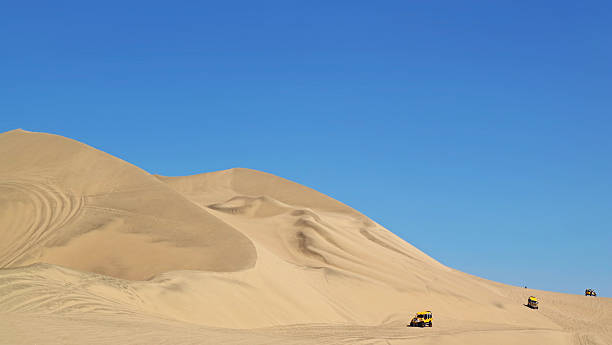vehicle_track: (0, 180, 84, 267)
